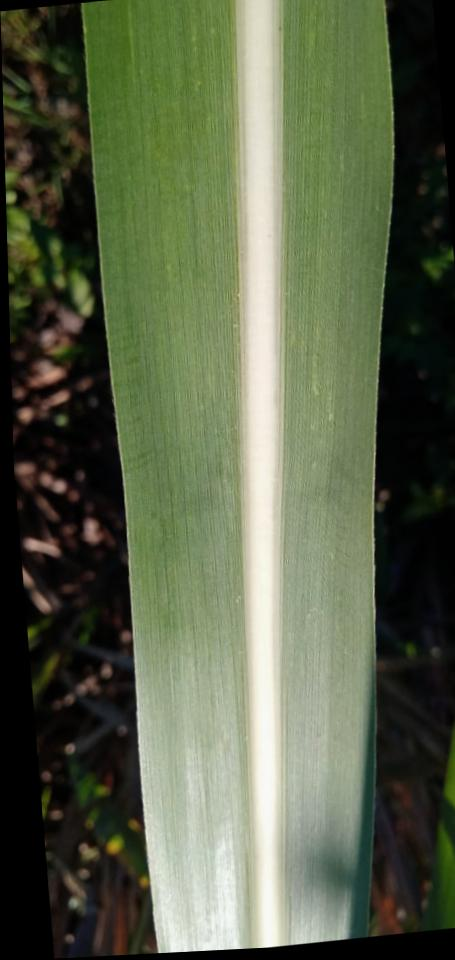Healthy: (82, 0, 392, 953)
